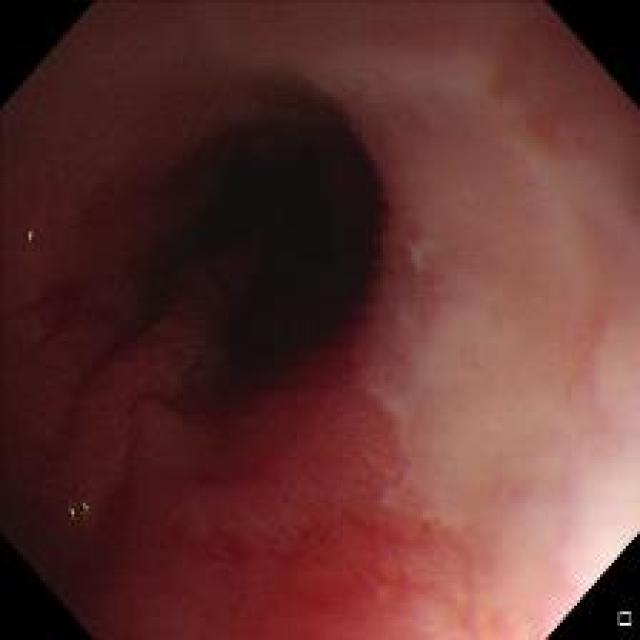color misalignment: (58, 490, 102, 530), (16, 215, 46, 260)
contrast: (8, 54, 442, 528)
